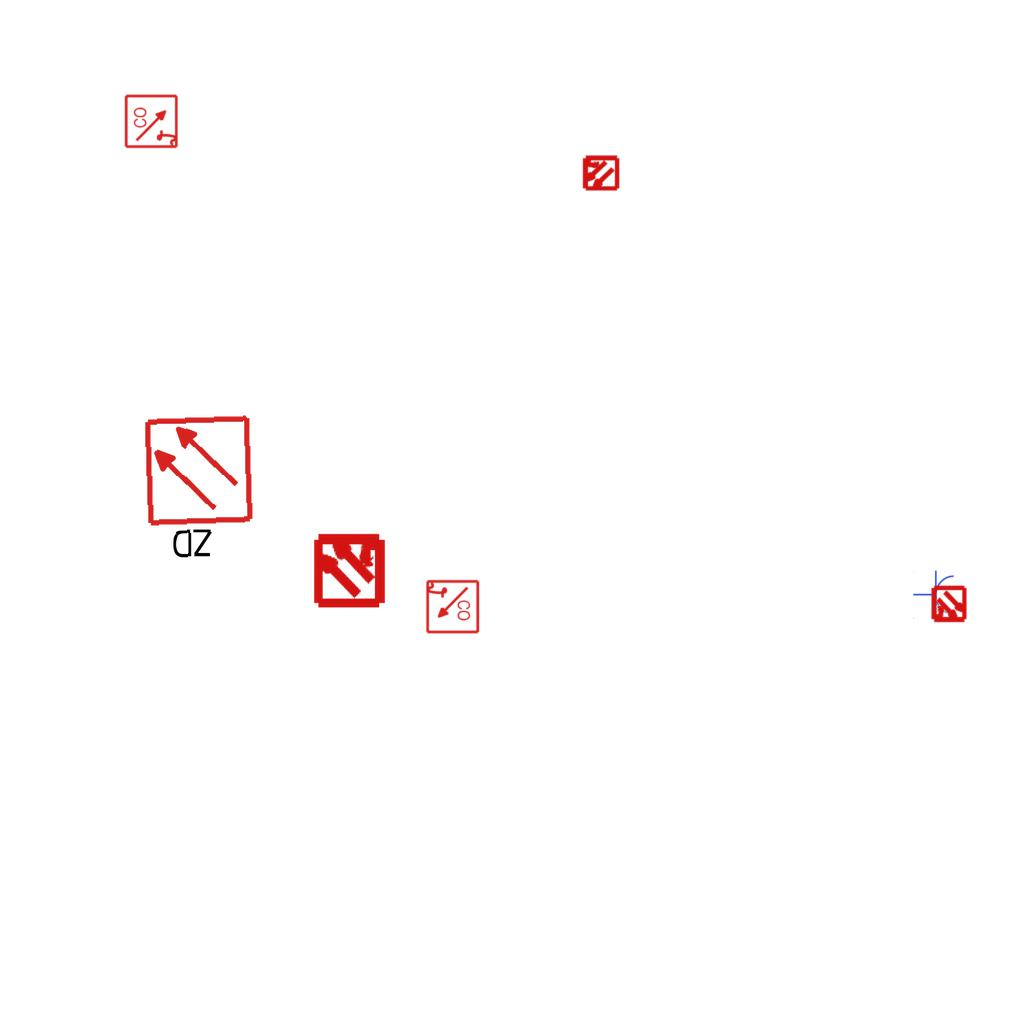OT_Multisensormelder_(Kombination_RMO_WMD): (293, 512, 406, 625), (572, 145, 628, 201), (921, 577, 977, 633)
ROA_Rauchmelder_optisch_mit_Signalgeber_(Sockelsirene): (424, 579, 480, 635), (124, 93, 180, 149)
Schukosteckdose_einfach: (913, 570, 956, 620)
ZD_Melder_in_Zwischendecke_mit_Revisionsoeffnung_mind_40_x_40_cm: (141, 413, 261, 566)
